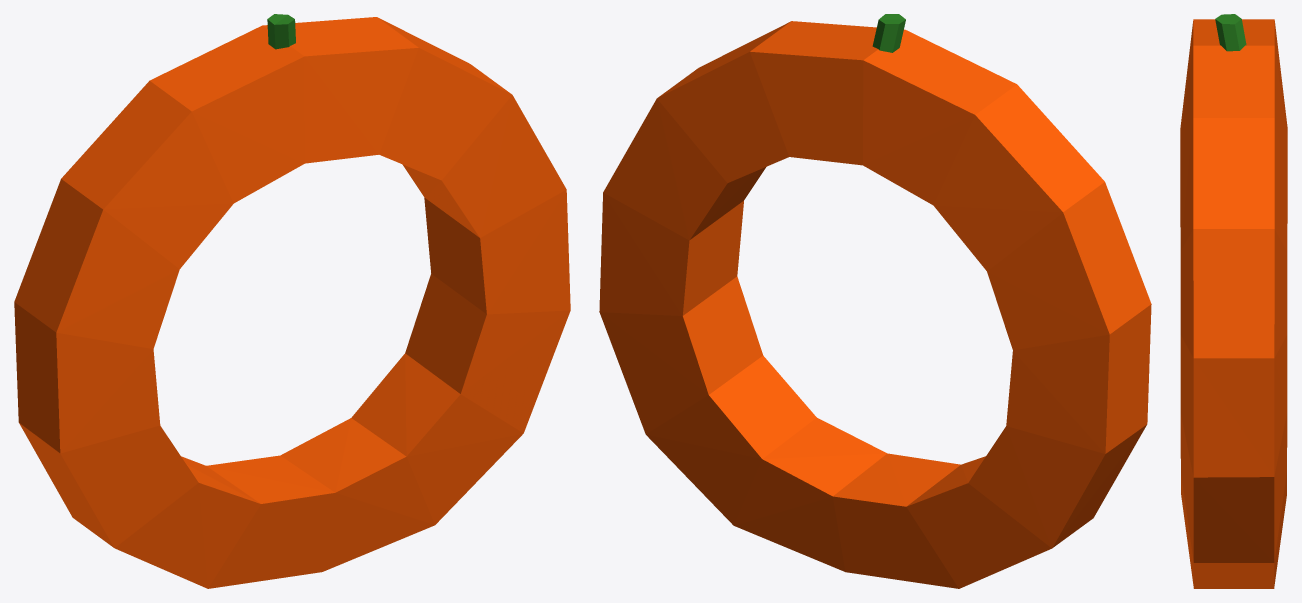
Rendered from Orange.fbx.
3 views of the same model, side by side, from view 1: azimuth 30°, elevation 25°; view 2: azimuth 150°, elevation 25°; view 3: azimuth 270°, elevation 25° (orthographic). The views are drawn at different scales.
Visible parts, largest first — view 1: Cylinder.005; view 2: Cylinder.005; view 3: Cylinder.005.
Boxes of the visible parts, bbox=[...] form: Cylinder.005: bbox=[14, 14, 570, 588]; Cylinder.005: bbox=[599, 14, 1151, 588]; Cylinder.005: bbox=[1180, 14, 1287, 588].
Size of the model in its own units: 63.3 by 64.14 by 11.87.
